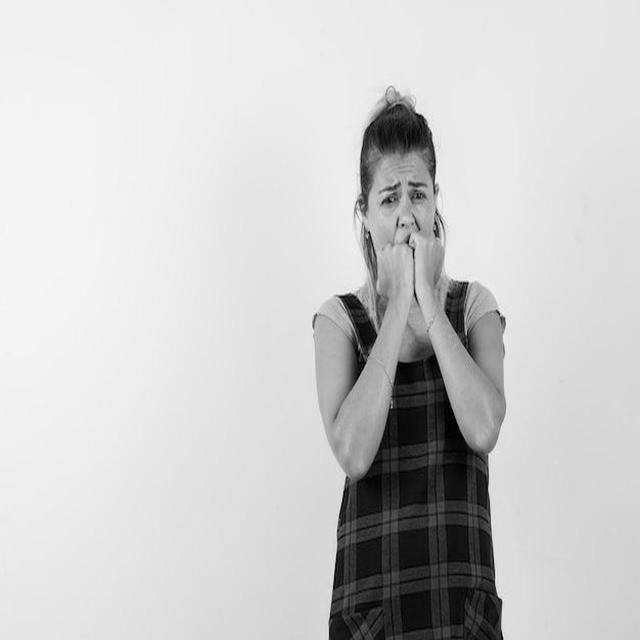Fear: (368, 152, 436, 275)
